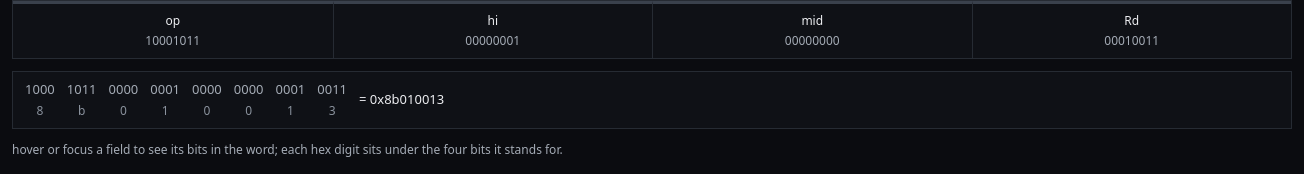
Test case: BitFieldDiagram › focusing a field traces it into the caption
This screenshot has width=1304, height=174.
Focus the button with aria-label "Rd, 8 bits, 00010011, x19": (1132, 31) x1=972 y1=4 x2=1291 y2=58
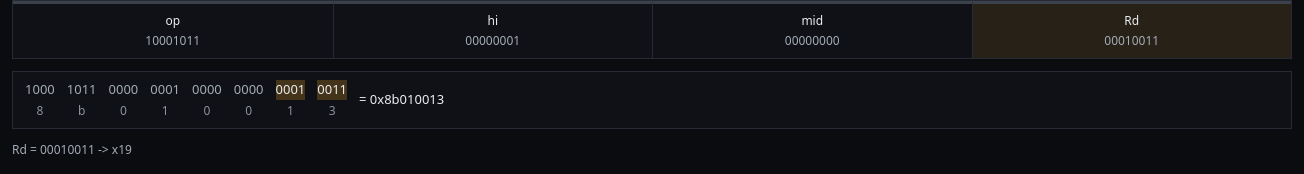
Check: the text "Rd = 00010011 -> x19" is shown, box x1=12 y1=140 x2=132 y2=158
Leave the button with aria-label "Rd, 8 bits, 00010011, x19", box x1=972 y1=4 x2=1291 y2=58
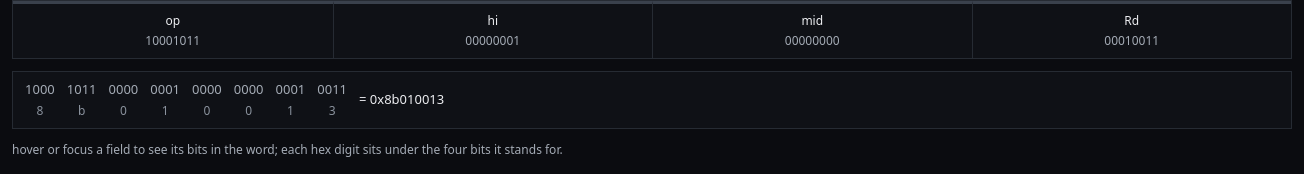
Check: the text "Rd = 00010011 -> x19" is gone
